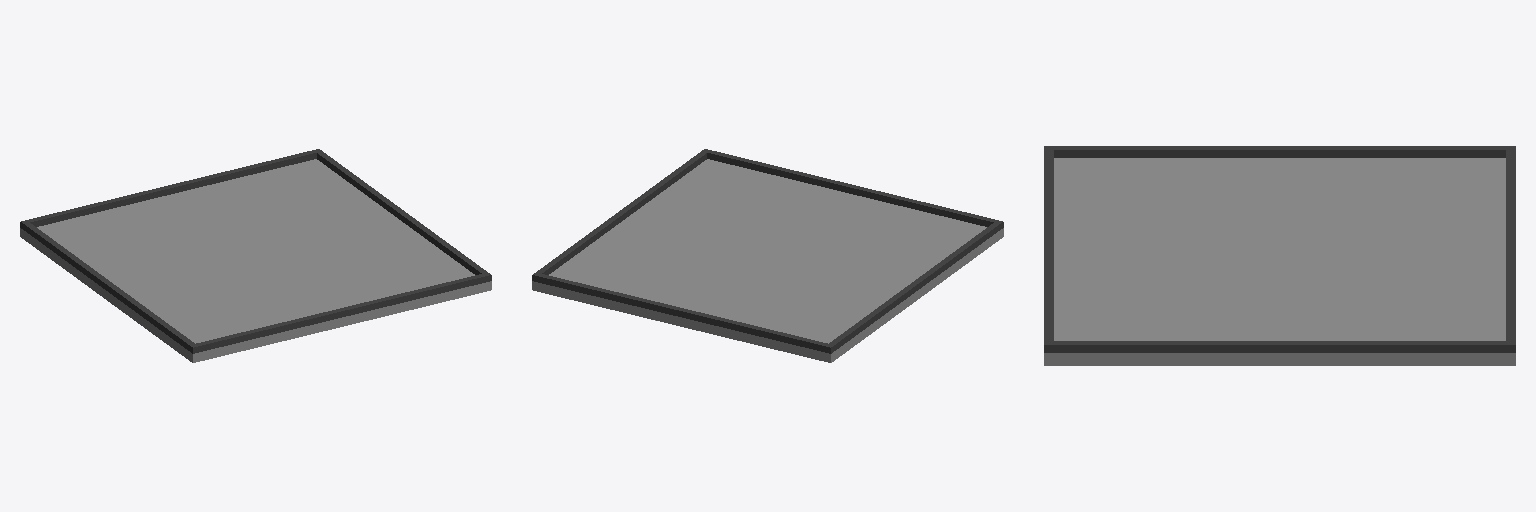
robot.urdf — plate:
<?xml version="1.0" ?>
<!-- =================================================================================== -->
<!-- |    This document was autogenerated by xacro from plate.urdf.xacro               | -->
<!-- |    EDITING THIS FILE BY HAND IS NOT RECOMMENDED                                 | -->
<!-- =================================================================================== -->
<robot name="plate">
  <!-- Épaisseur des bordures -->
  <!-- Matériaux pour les couleurs -->
  <material name="grey">
    <color rgba="0.6 0.6 0.6 1.0"/>
  </material>
  <material name="dark_grey">
    <color rgba="0.3 0.3 0.3 1.0"/>
  </material>
  <!-- Le maillon de base (la surface de la plaque) -->
  <link name="plate_base_link">
    <inertial>
      <mass value="4.0"/>
      <inertia ixx="0.3336333333333333" ixy="0" ixz="0" iyy="0.3336333333333333" iyz="0" izz="0.6666666666666666"/>
      <origin rpy="0 0 0" xyz="0 0 0.015"/>
    </inertial>
    <visual>
      <geometry>
        <box size="1.0 1.0 0.03"/>
      </geometry>
      <material name="grey"/>
      <origin rpy="0 0 0" xyz="0 0 0.015"/>
    </visual>
    <collision>
      <geometry>
        <box size="1.0 1.0 0.03"/>
      </geometry>
      <origin rpy="0 0 0" xyz="0 0 0.015"/>
    </collision>
  </link>
  <!-- Instantiation des 4 bordures en appelant la macro single_border -->
  <link name="plate_border_front">
    <visual>
      <material name="dark_grey"/>
      <geometry>
        <box size="0.02 1.0 0.02"/>
      </geometry>
    </visual>
    <collision>
      <geometry>
        <box size="0.02 1.0 0.02"/>
      </geometry>
    </collision>
  </link>
  <joint name="plate_border_front_joint" type="fixed">
    <parent link="plate_base_link"/>
    <child link="plate_border_front"/>
    <origin rpy="0 0 0" xyz="0.49 0 0.04"/>
  </joint>
  <link name="plate_border_back">
    <visual>
      <material name="dark_grey"/>
      <geometry>
        <box size="0.02 1.0 0.02"/>
      </geometry>
    </visual>
    <collision>
      <geometry>
        <box size="0.02 1.0 0.02"/>
      </geometry>
    </collision>
  </link>
  <joint name="plate_border_back_joint" type="fixed">
    <parent link="plate_base_link"/>
    <child link="plate_border_back"/>
    <origin rpy="0 0 0" xyz="-0.49 0 0.04"/>
  </joint>
  <link name="plate_border_left">
    <visual>
      <material name="dark_grey"/>
      <geometry>
        <box size="1.0 0.02 0.02"/>
      </geometry>
    </visual>
    <collision>
      <geometry>
        <box size="1.0 0.02 0.02"/>
      </geometry>
    </collision>
  </link>
  <joint name="plate_border_left_joint" type="fixed">
    <parent link="plate_base_link"/>
    <child link="plate_border_left"/>
    <origin rpy="0 0 0" xyz="0 0.49 0.04"/>
  </joint>
  <link name="plate_border_right">
    <visual>
      <material name="dark_grey"/>
      <geometry>
        <box size="1.0 0.02 0.02"/>
      </geometry>
    </visual>
    <collision>
      <geometry>
        <box size="1.0 0.02 0.02"/>
      </geometry>
    </collision>
  </link>
  <joint name="plate_border_right_joint" type="fixed">
    <parent link="plate_base_link"/>
    <child link="plate_border_right"/>
    <origin rpy="0 0 0" xyz="0 -0.49 0.04"/>
  </joint>
</robot>

--- Render facts (derived) ---
The picture shows the robot from 3 angles, left to right: view 1: azimuth 30°, elevation 25°; view 2: azimuth 150°, elevation 25°; view 3: azimuth 270°, elevation 25°; orthographic projection.
Model plate with 5 links and 4 joints (4 fixed), rooted at plate_base_link, posed all joints at 0.
Visible links, largest first — view 1: plate_base_link, plate_border_right, plate_border_left, plate_border_back, plate_border_front; view 2: plate_base_link, plate_border_left, plate_border_right, plate_border_back, plate_border_front; view 3: plate_base_link, plate_border_front, plate_border_back, plate_border_left, plate_border_right.
Boxes of the visible links, <box> form: plate_base_link: <box>20,159,491,362</box>; plate_border_right: <box>191,273,491,353</box>; plate_border_left: <box>20,150,317,226</box>; plate_border_back: <box>20,220,198,353</box>; plate_border_front: <box>314,149,491,281</box>; plate_base_link: <box>532,159,1003,362</box>; plate_border_left: <box>533,273,832,352</box>; plate_border_right: <box>702,149,1001,226</box>; plate_border_back: <box>825,220,1003,353</box>; plate_border_front: <box>532,149,708,280</box>; plate_base_link: <box>1044,158,1515,365</box>; plate_border_front: <box>1044,341,1515,352</box>; plate_border_back: <box>1044,146,1515,157</box>; plate_border_left: <box>1506,147,1515,352</box>; plate_border_right: <box>1044,146,1053,352</box>.
Bounding box of the posed robot: 1 × 1 × 0.05 m (x, y, z).
Geometry: primitives only (box / cylinder / sphere), no mesh files.
